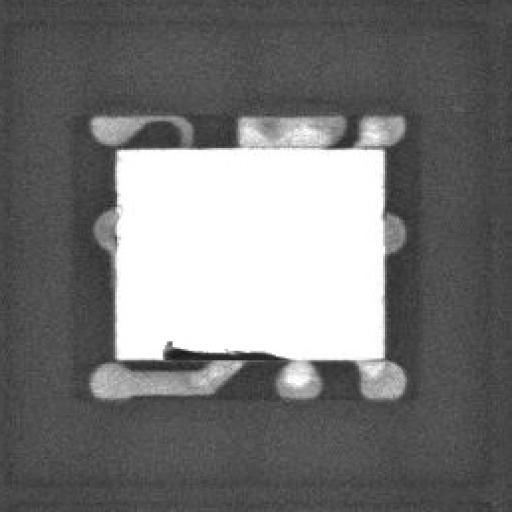DIE_BROKEN: (153, 338, 284, 362)
